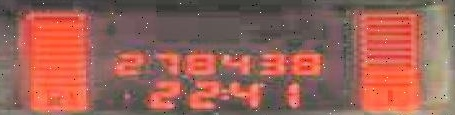1: (281, 81, 299, 107)
2: (146, 80, 180, 107), (185, 80, 219, 107), (112, 52, 143, 73)
3: (255, 52, 281, 73)
4: (226, 81, 257, 107), (218, 52, 247, 72)
7: (153, 52, 177, 73)
8: (182, 52, 213, 73), (289, 52, 320, 73)
X: (218, 87, 226, 98)
